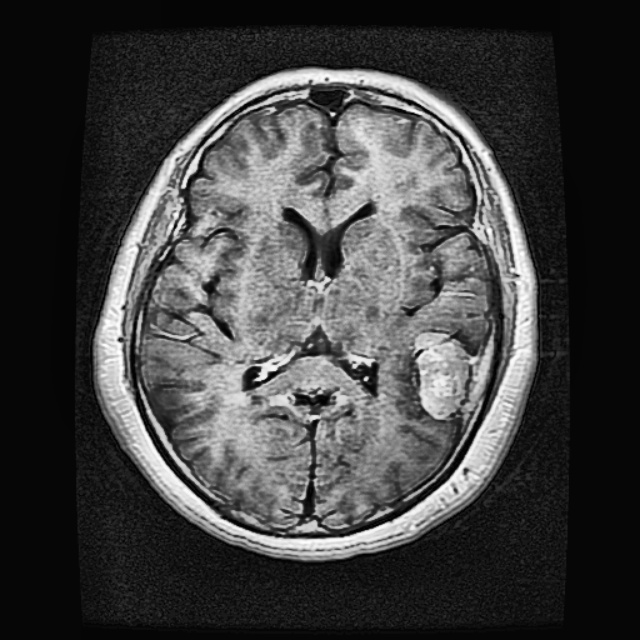Pituitary: (414, 330, 470, 419)
